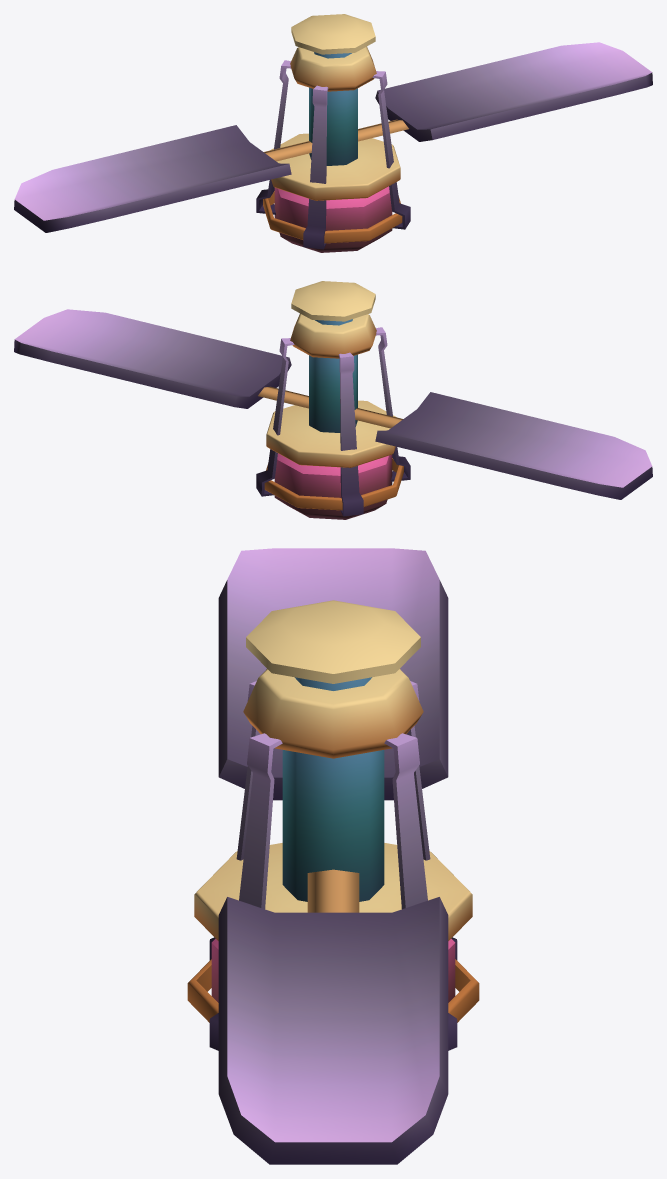
The model's file is SM_Space_4P_1.fbx.
The picture shows the model from 3 angles, top to bottom: view 1: azimuth 30°, elevation 25°; view 2: azimuth 150°, elevation 25°; view 3: azimuth 270°, elevation 25°; orthographic projection. The views are drawn at different scales.
Parts seen in each view (by area): view 1: SM_Satellite; view 2: SM_Satellite; view 3: SM_Satellite.
Part boxes in pixels (x1,y1,x2,y2): SM_Satellite: (14,14,652,252); SM_Satellite: (14,281,652,519); SM_Satellite: (187,548,479,1164).
Bounding box in the file's own units: 420 × 137 × 87.11.
